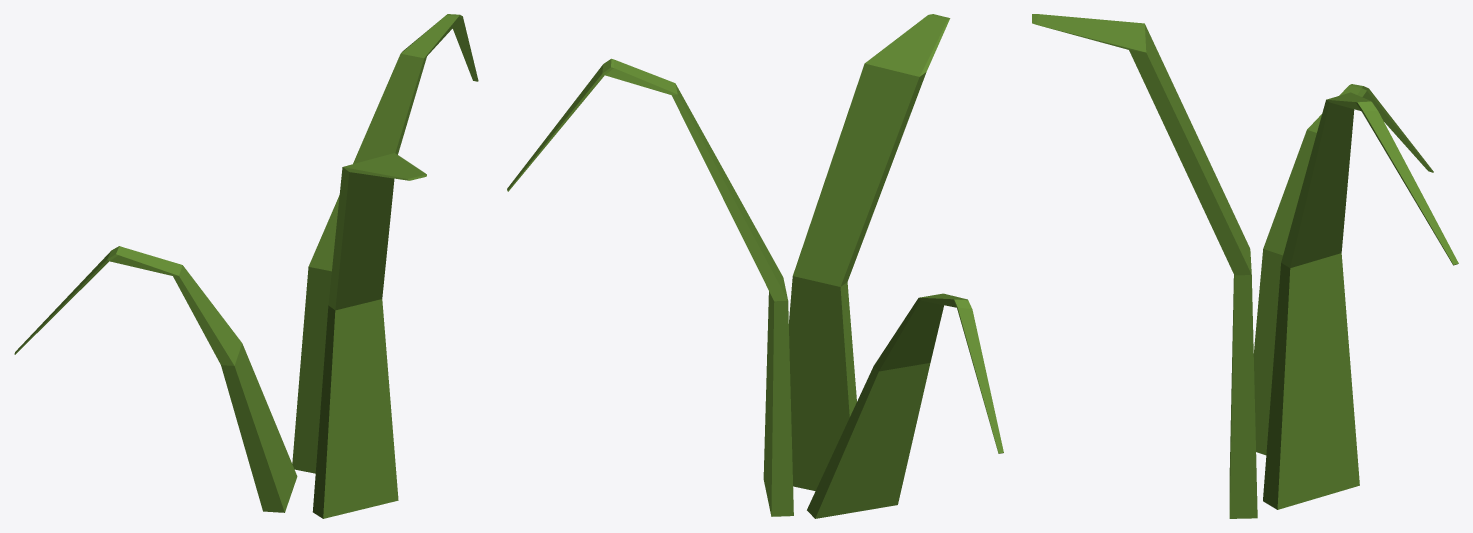
File: grass.fbx
3 views of the same model, side by side, from view 1: azimuth 30°, elevation 25°; view 2: azimuth 150°, elevation 25°; view 3: azimuth 270°, elevation 25° (orthographic). The views are drawn at different scales.
Visible parts, largest first — view 1: Plane.001; view 2: Plane.001; view 3: Plane.001.
Boxes of the visible parts, <box> form: Plane.001: <box>14,14,478,518</box>; Plane.001: <box>507,14,1003,518</box>; Plane.001: <box>1032,14,1458,518</box>.
Bounding box in the file's own units: 140 × 117 × 93.91.
